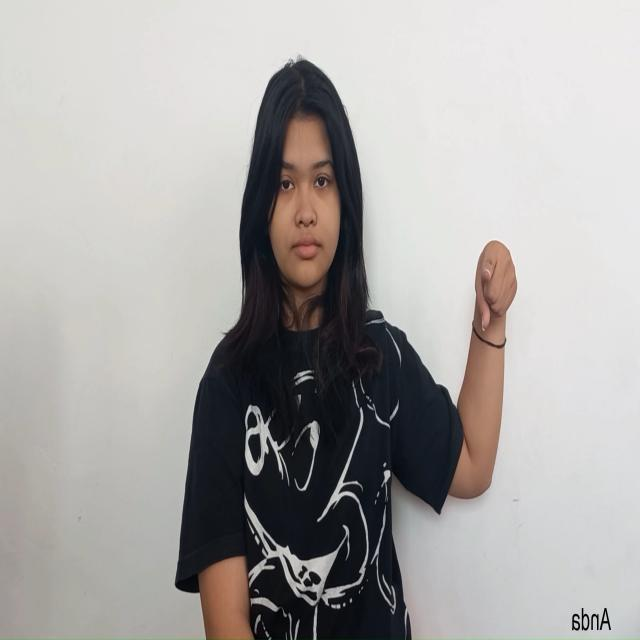Anda -BISINDO-: (474, 240, 518, 334)
